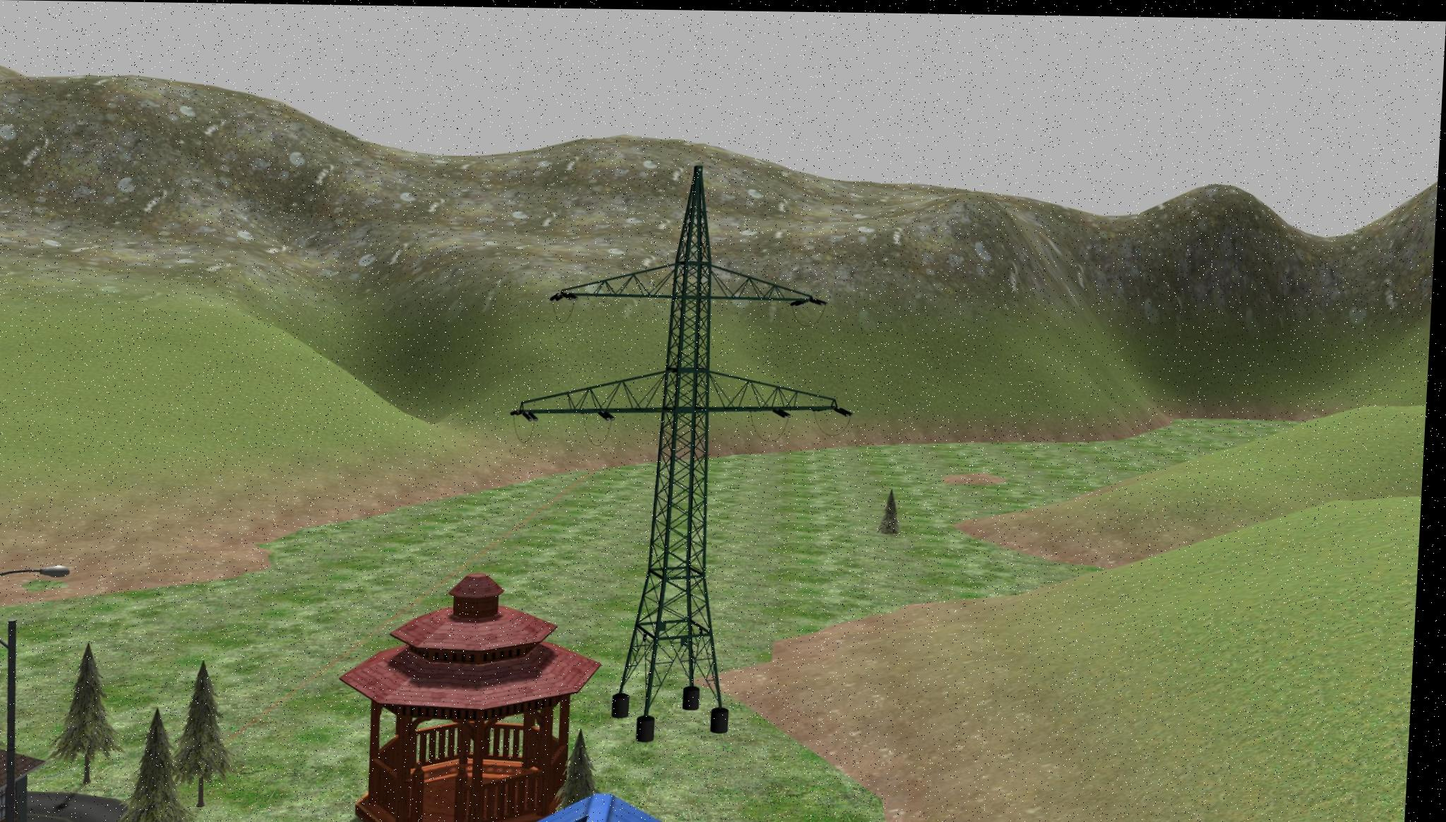tower: (559, 162, 858, 718)
